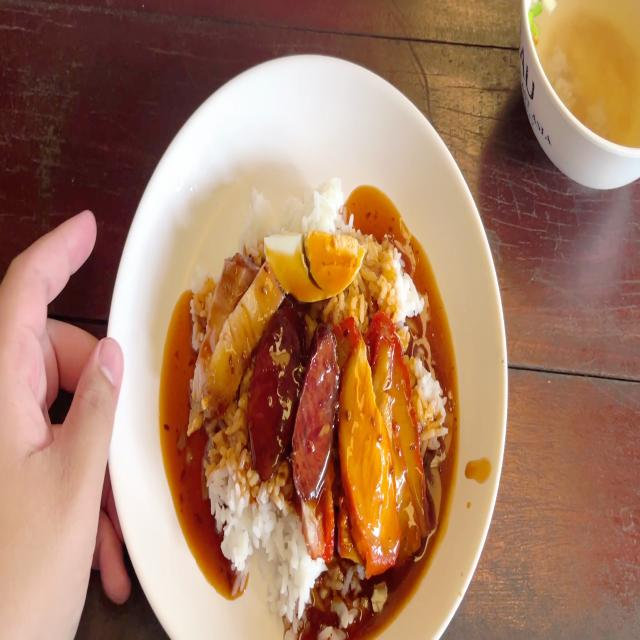boiled_egg: (263, 223, 365, 302)
chainese_sausage: (250, 305, 336, 487)
crispy_pork: (195, 248, 280, 414)
red_pork: (342, 324, 418, 547)
red_pork_and_crispy_pork: (190, 186, 446, 633)
rice: (209, 443, 261, 572), (272, 517, 311, 622), (378, 245, 409, 311)
